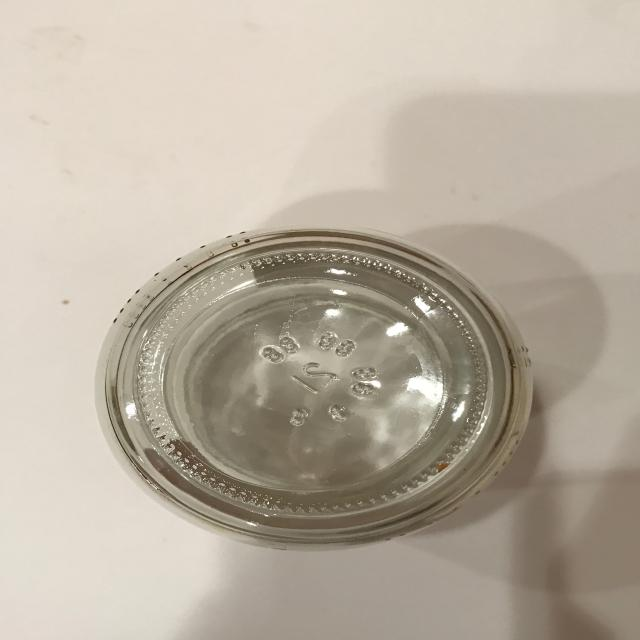glass: (95, 226, 534, 551)
